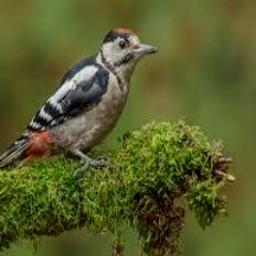Woodpecker: (0, 27, 158, 172)
